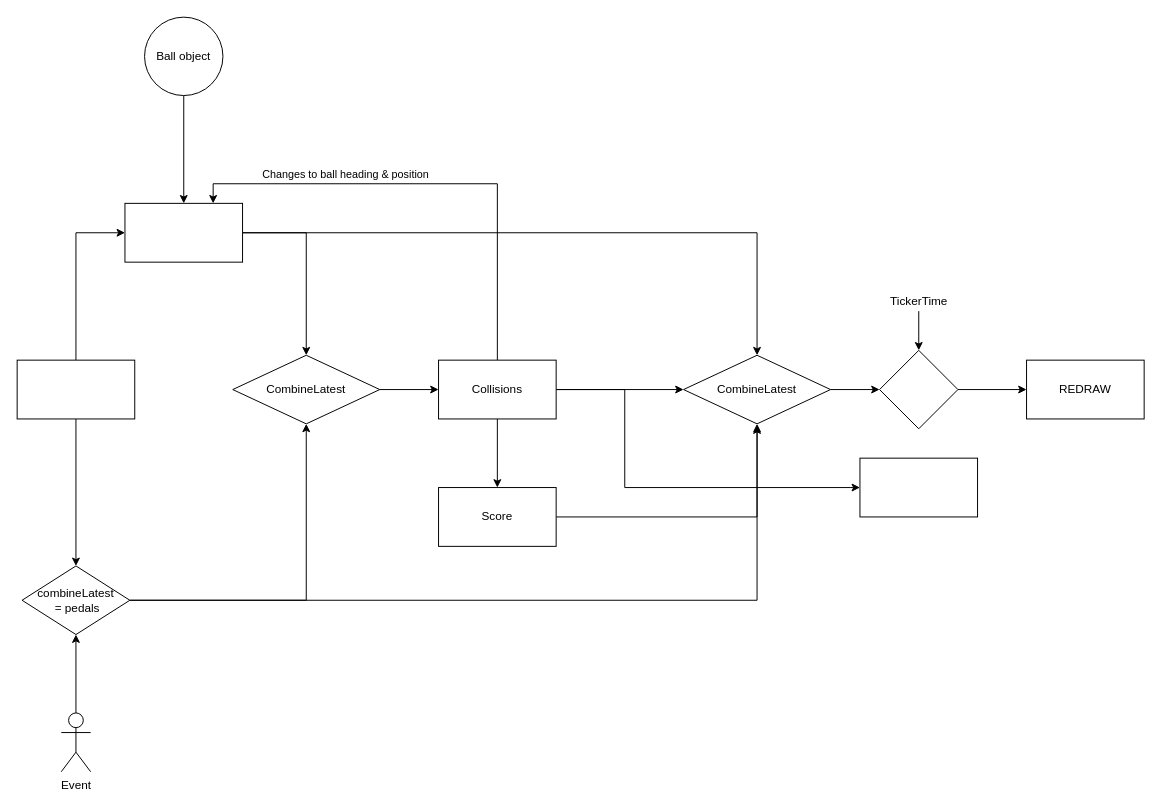
This 1161x809 diagram has some shape labels left out. Each missing label, with the centre of its shape:
<scan> ball: (x=183, y=232)
sample: (x=918, y=389)
SOUND: (x=918, y=487)
ticker: (x=75, y=389)
